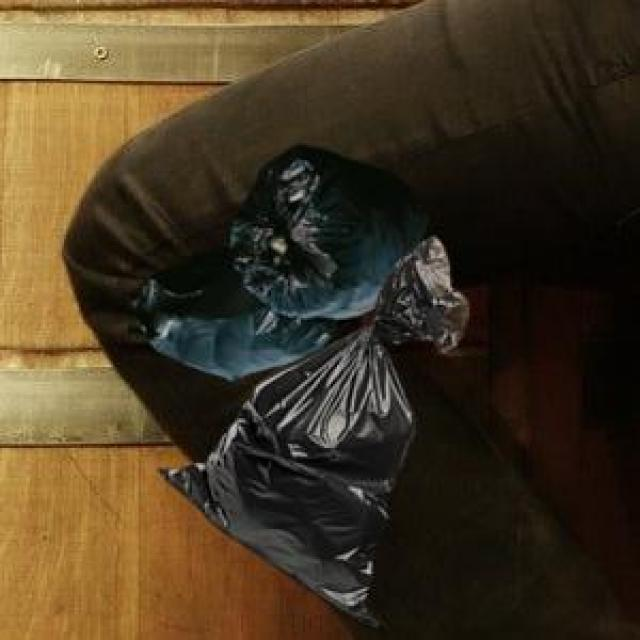miscellaneous trash: (154, 233, 465, 621), (130, 141, 425, 376)
